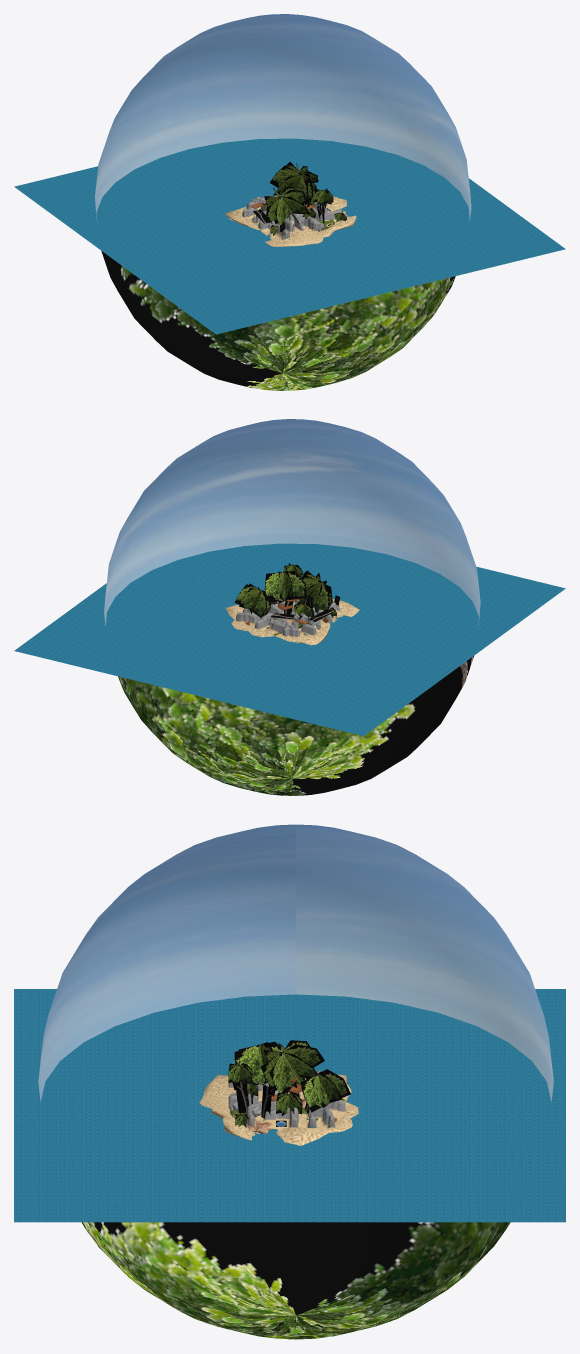
Rendered from island.glb.
3 views of the same model, one above another, from view 1: azimuth 30°, elevation 25°; view 2: azimuth 150°, elevation 25°; view 3: azimuth 270°, elevation 25° (orthographic). The views are drawn at different scales.
Visible parts, largest first — view 1: Sphere, Plane.001, collidable, collidable.001, buisson.010, buisson.007; view 2: Sphere, Plane.001, collidable.001, buisson.007, collidable, buisson.010, buisson.009; view 3: Sphere, Plane.001, collidable, collidable.001, buisson.007, buisson.009, buisson.010.
Boxes of the visible parts, left/top/right/bottom form: Sphere: left=95, top=14, right=471, bottom=390; Plane.001: left=14, top=138, right=565, bottom=334; collidable: left=225, top=196, right=356, bottom=246; collidable.001: left=242, top=194, right=342, bottom=239; buisson.010: left=264, top=187, right=310, bottom=225; buisson.007: left=269, top=162, right=313, bottom=204; Sphere: left=104, top=419, right=480, bottom=795; Plane.001: left=14, top=543, right=565, bottom=736; collidable.001: left=236, top=600, right=343, bottom=637; buisson.007: left=264, top=570, right=306, bottom=603; collidable: left=225, top=598, right=359, bottom=645; buisson.010: left=297, top=570, right=332, bottom=613; buisson.009: left=234, top=583, right=270, bottom=617; Sphere: left=38, top=824, right=553, bottom=1339; Plane.001: left=14, top=989, right=565, bottom=1222; collidable: left=199, top=1074, right=358, bottom=1145; collidable.001: left=228, top=1070, right=345, bottom=1129; buisson.007: left=261, top=1040, right=324, bottom=1093; buisson.009: left=300, top=1069, right=350, bottom=1112; buisson.010: left=234, top=1041, right=281, bottom=1085.
Size of the model in its own units: 365 by 341 by 365.
2 materials, 2 textured.
